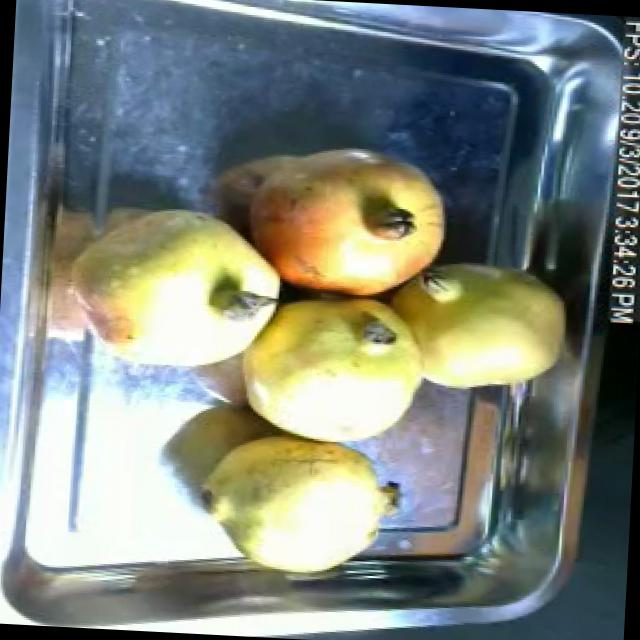fruit: (46, 190, 294, 380), (222, 127, 461, 313), (229, 280, 438, 450), (187, 426, 406, 588), (391, 250, 576, 401)
